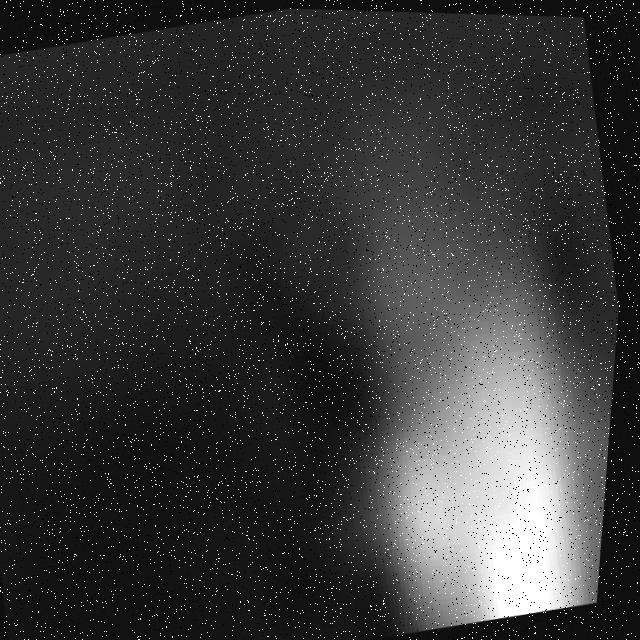person: (317, 111, 635, 638)
